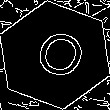O_S: (24, 23, 86, 87)
